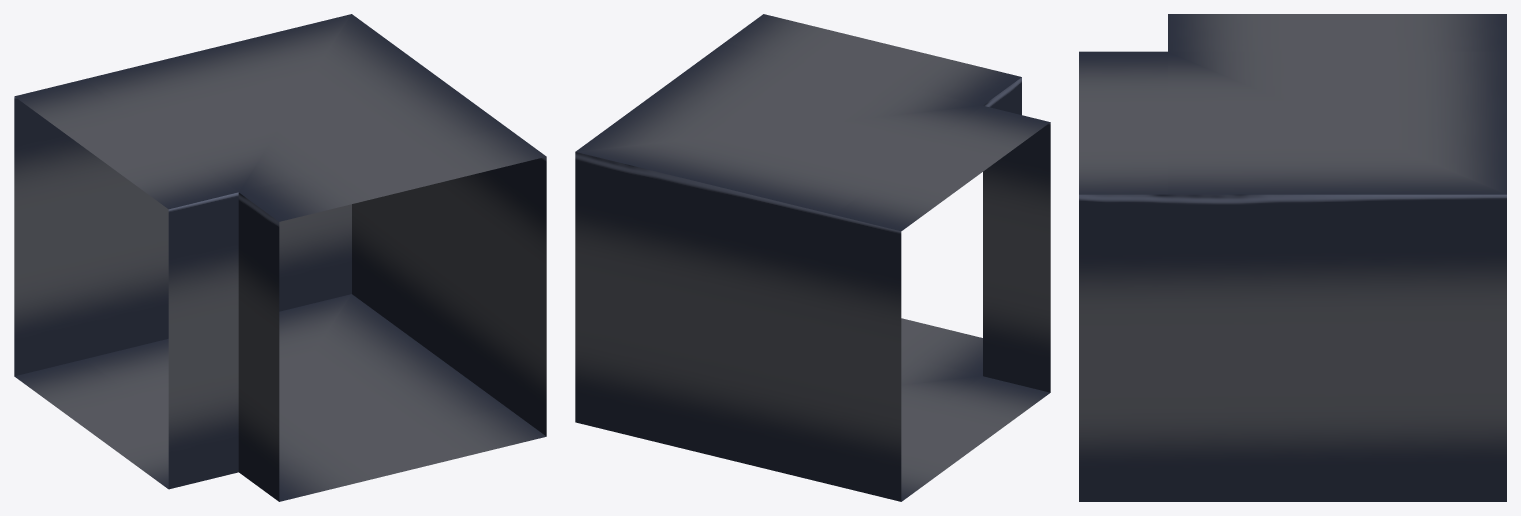
The model's file is VentShaftL.fbx.
3 renders of one model, left to right at view 1: azimuth 30°, elevation 25°; view 2: azimuth 150°, elevation 25°; view 3: azimuth 270°, elevation 25°, orthographic. The views are drawn at different scales.
Visible parts, largest first — view 1: VentShaftL; view 2: VentShaftL; view 3: VentShaftL.
Part boxes in pixels (box(x1,y1,x2,y2)): VentShaftL: box(14, 14, 546, 501); VentShaftL: box(575, 14, 1050, 501); VentShaftL: box(1079, 14, 1506, 501).
Bounding box in the file's own units: 166 × 131 × 166.
